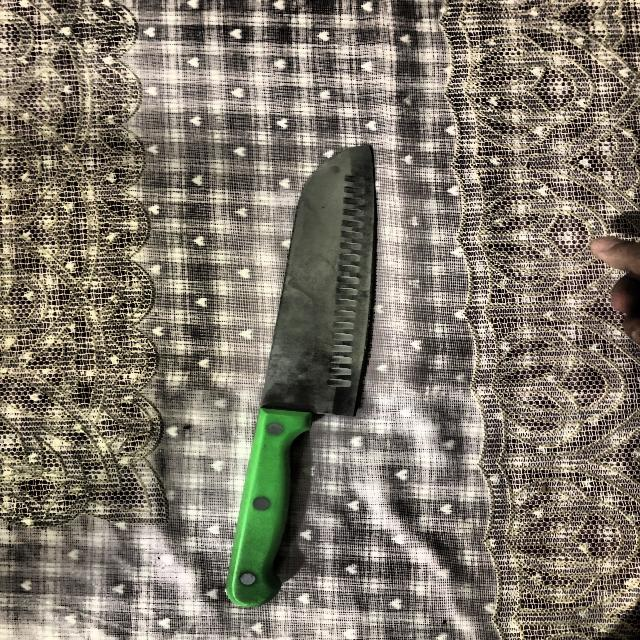knife: (226, 144, 380, 606)
